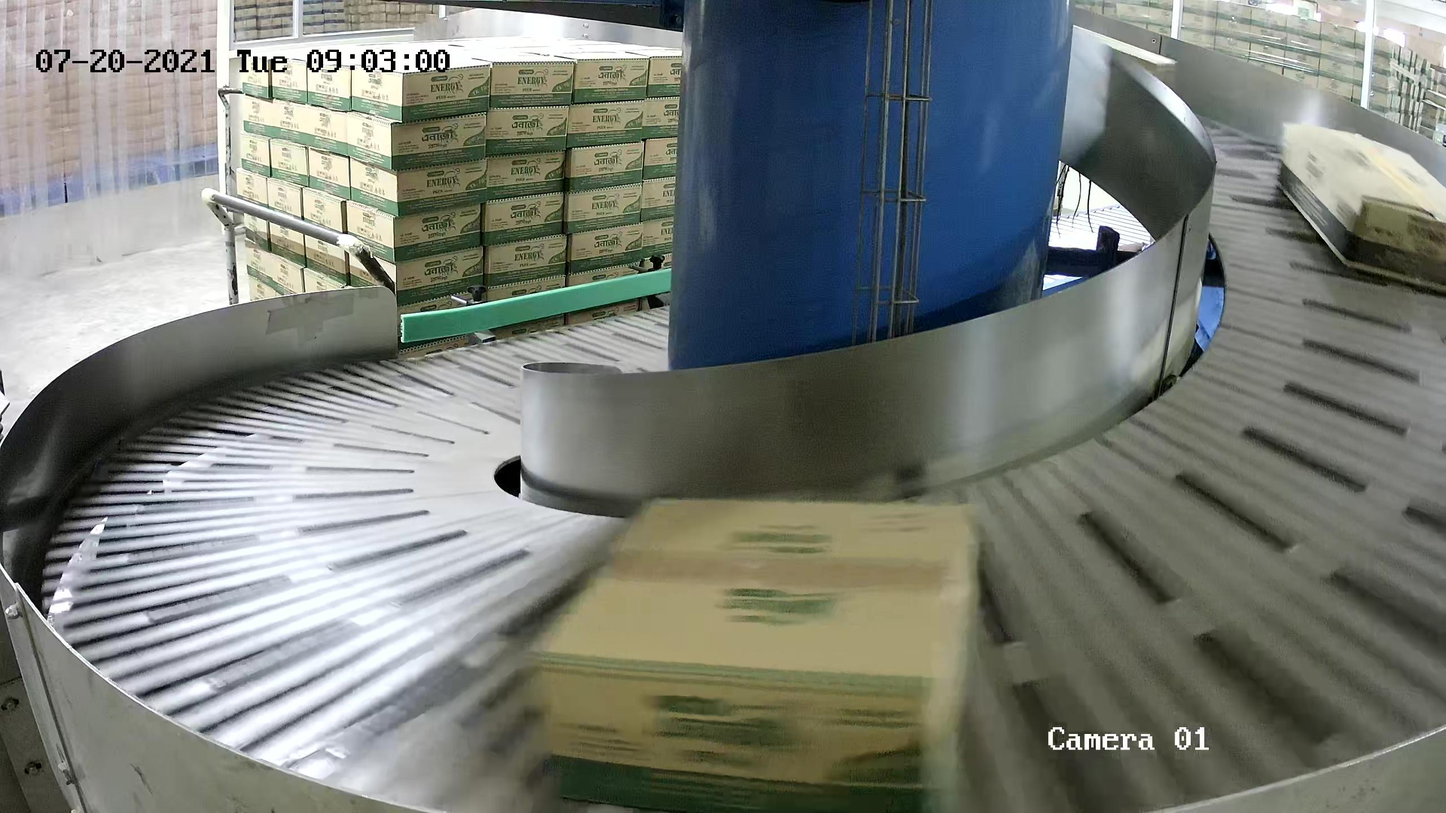Box: (525, 491, 981, 813), (1275, 120, 1446, 290)
